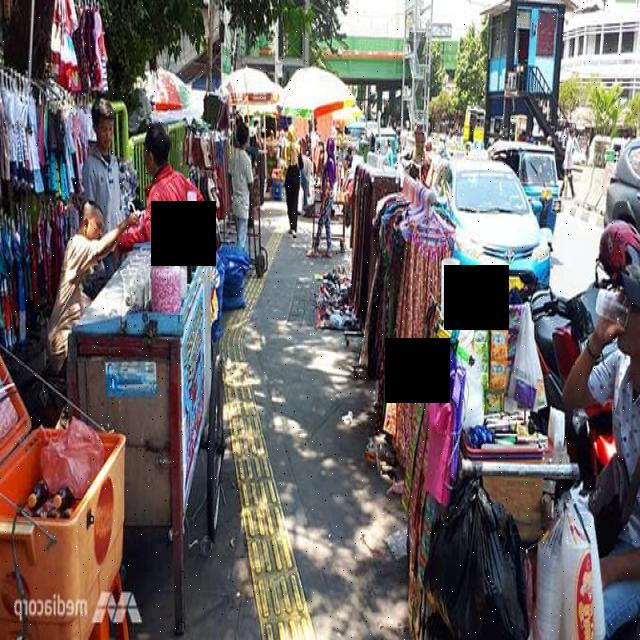food-booth: (381, 290, 605, 640), (66, 166, 223, 635)
